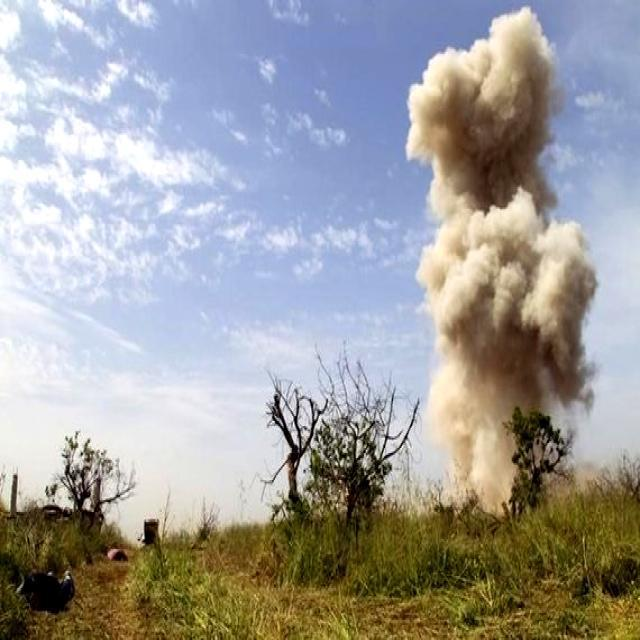Smoke: (392, 0, 597, 473)
